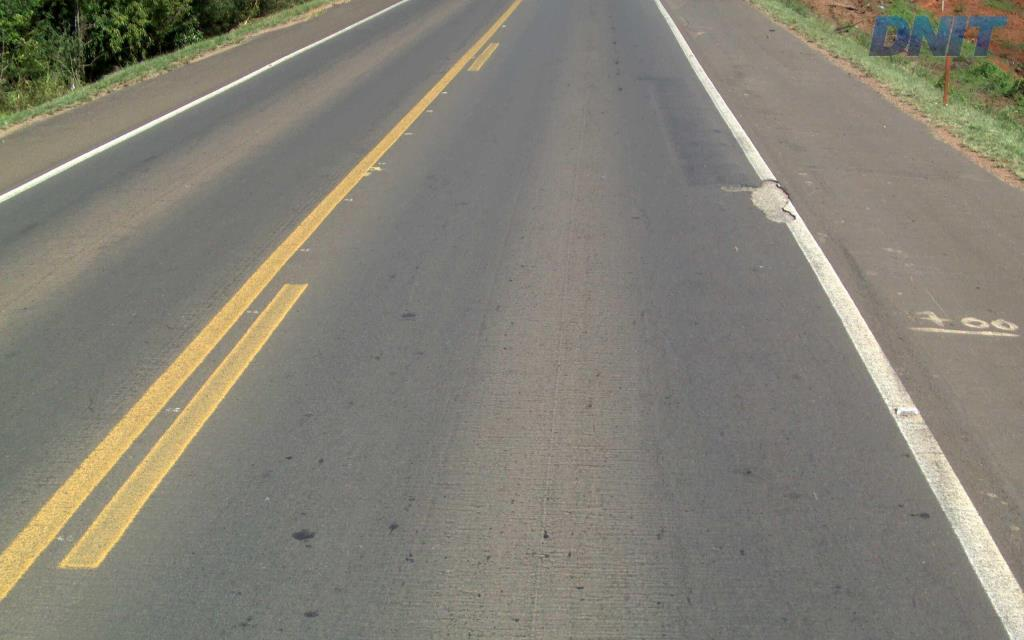pothole: (715, 175, 793, 224)
